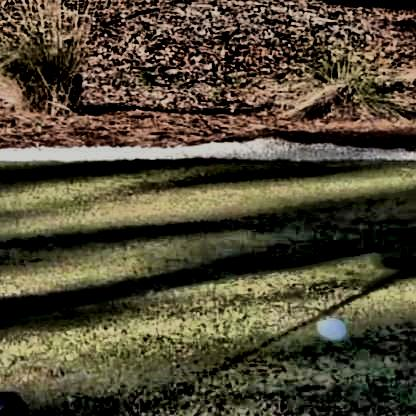golfball: (314, 315, 343, 343)
